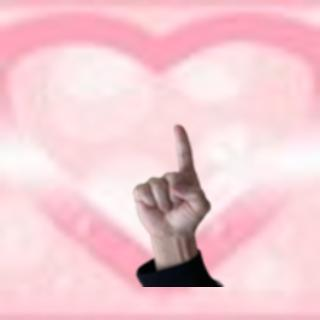IRRITATED: (126, 121, 213, 244)
